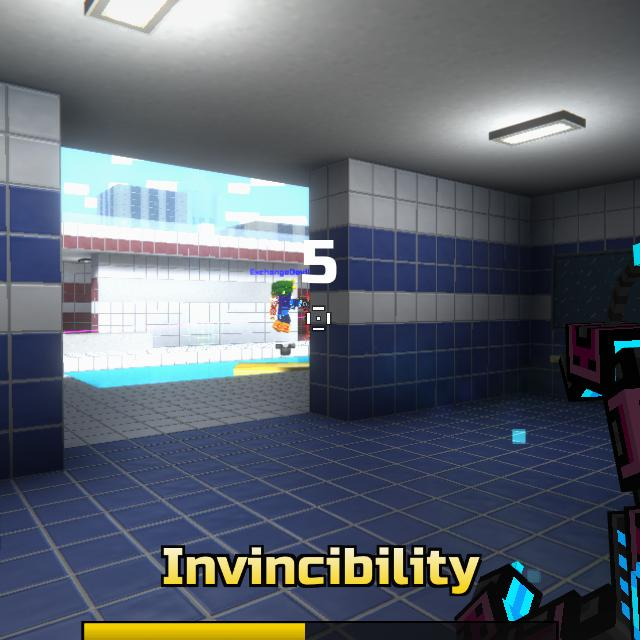Enemy: (303, 298, 310, 338)
